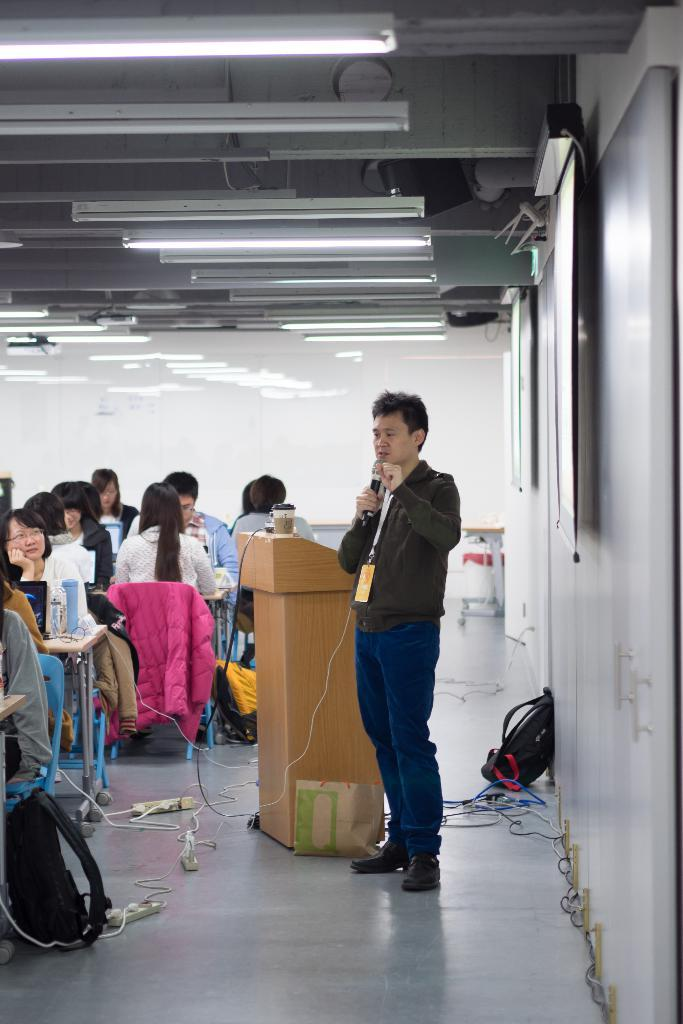Luggage-and-bags: (0, 781, 126, 970), (479, 683, 556, 791), (211, 641, 262, 746)
